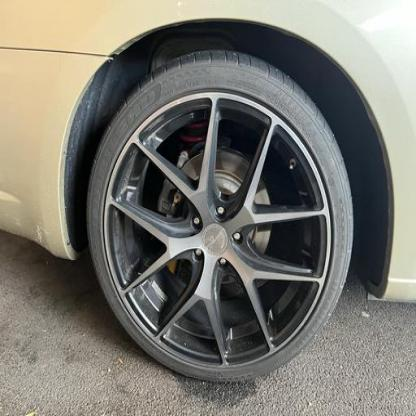Tire: (84, 45, 354, 384)
